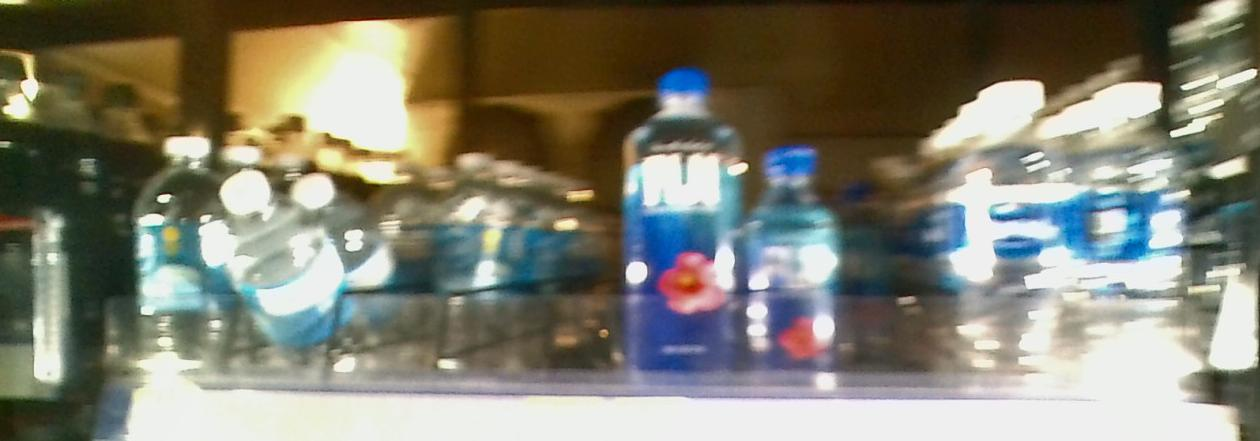bottle: (1078, 81, 1193, 405), (628, 58, 739, 387), (955, 75, 1065, 395), (749, 142, 842, 395), (129, 134, 221, 382), (434, 149, 525, 370), (226, 179, 333, 364)
